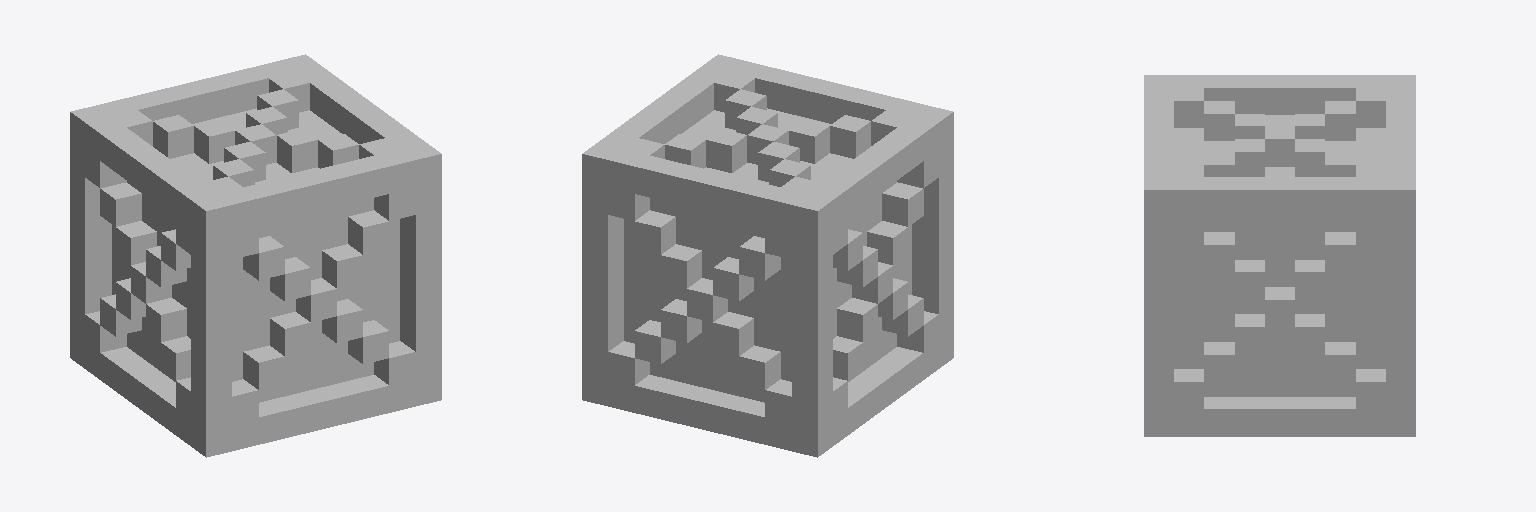
File: Crate.obj
3 views of the same model, side by side, from view 1: azimuth 30°, elevation 25°; view 2: azimuth 150°, elevation 25°; view 3: azimuth 270°, elevation 25° (orthographic).
Parts seen in each view (by area): view 1: object 1; view 2: object 1; view 3: object 1.
Part boxes in pixels (left/top/right/bottom): object 1: left=70, top=54, right=441, bottom=457; object 1: left=582, top=54, right=953, bottom=457; object 1: left=1144, top=75, right=1415, bottom=436.
Size of the model in its own units: 0.9 by 0.9 by 0.9.